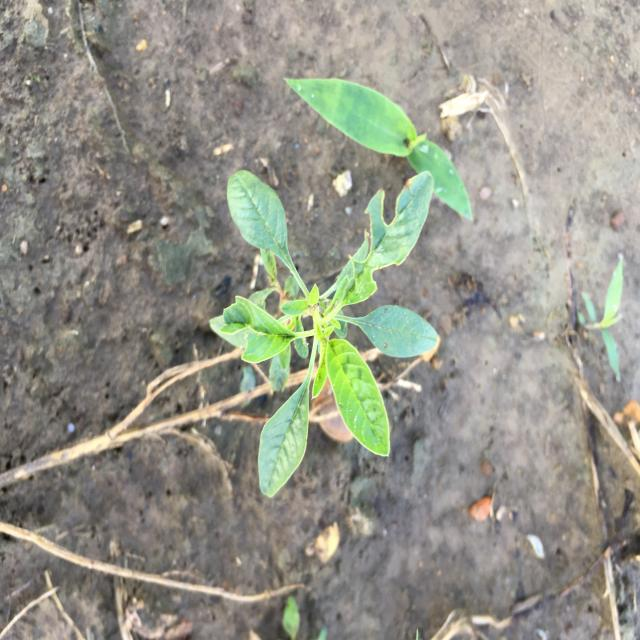Waterhemp: (206, 166, 442, 500)
